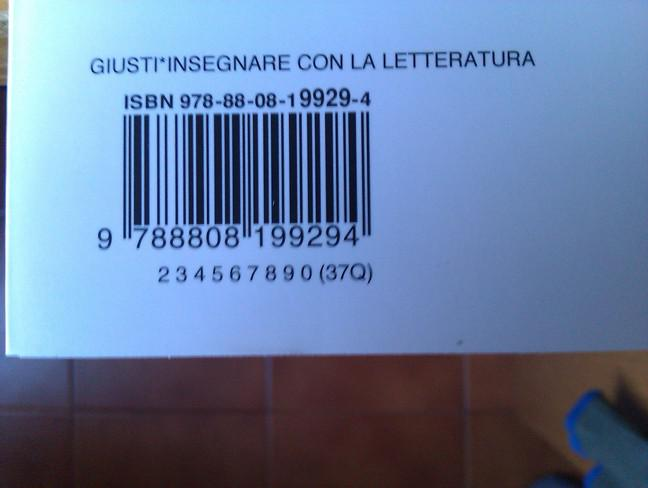Barkod: (82, 107, 380, 256)
